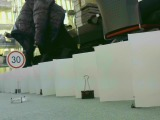speed_30: (4, 50, 26, 69)
